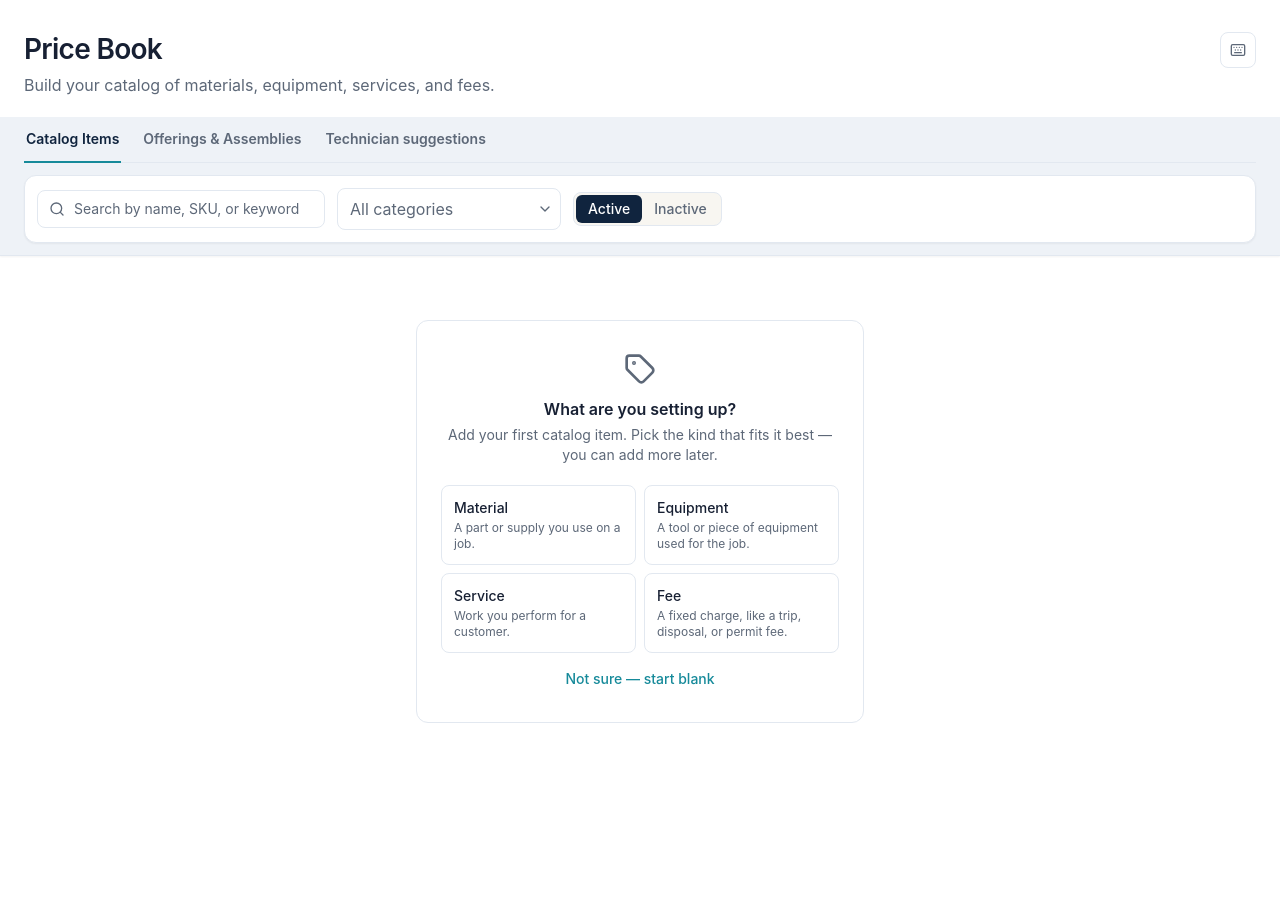
Test: PriceBook — Offerings & Assemblies tab › the Add assembly CTA renders as one semantic control (mobile-width + sm+ sticky-bar copy), and the status filter stays singular
Click the tab "Offerings & Assemblies". click: (222, 140)
box: [141, 117, 303, 163]
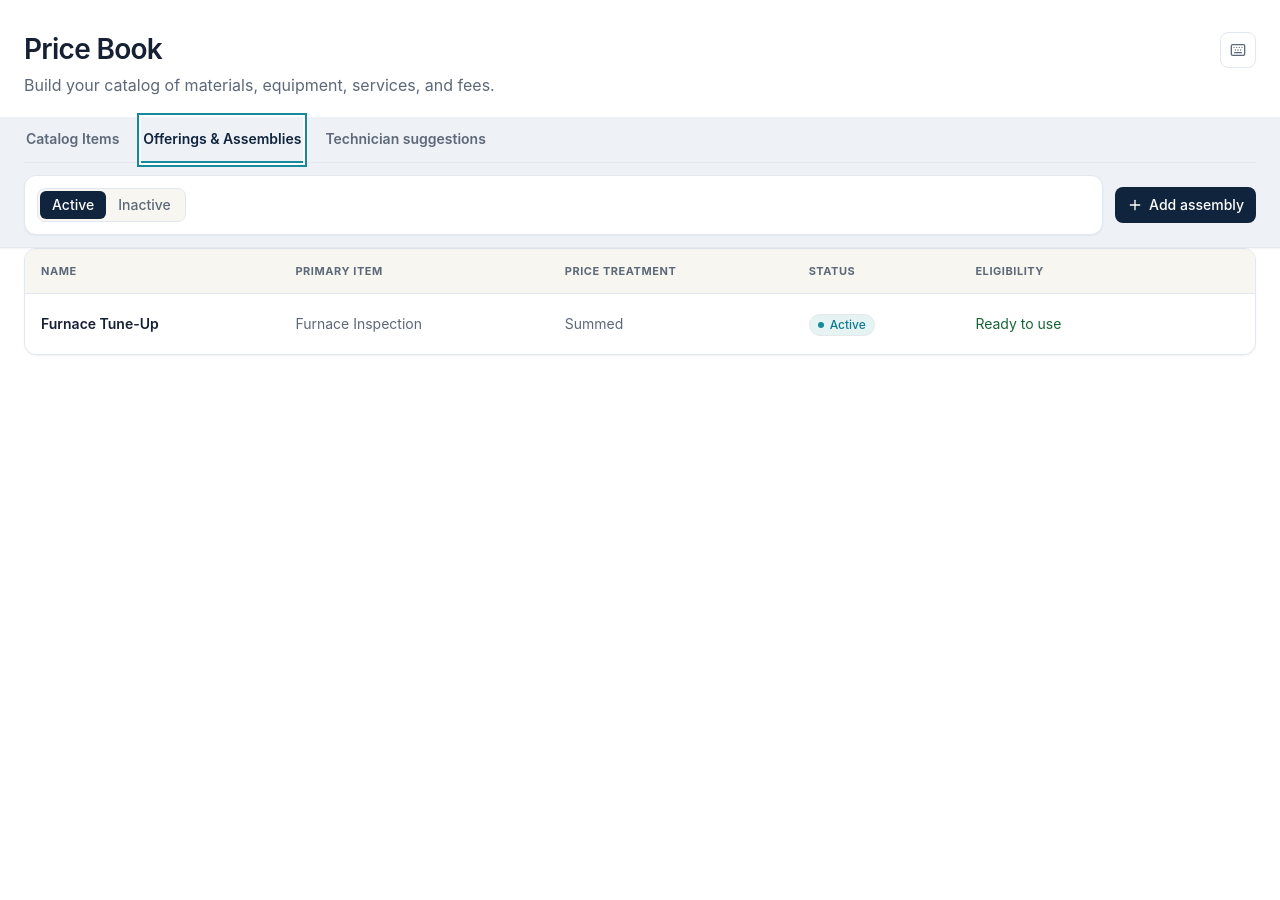
Expected: the number of elements named "Filter by status" is 1, [37, 188, 186, 222]
Expected: the button "Furnace Tune-Up" is shown, [41, 314, 159, 334]
Expected: the number of buttons "Add assembly" is 2
